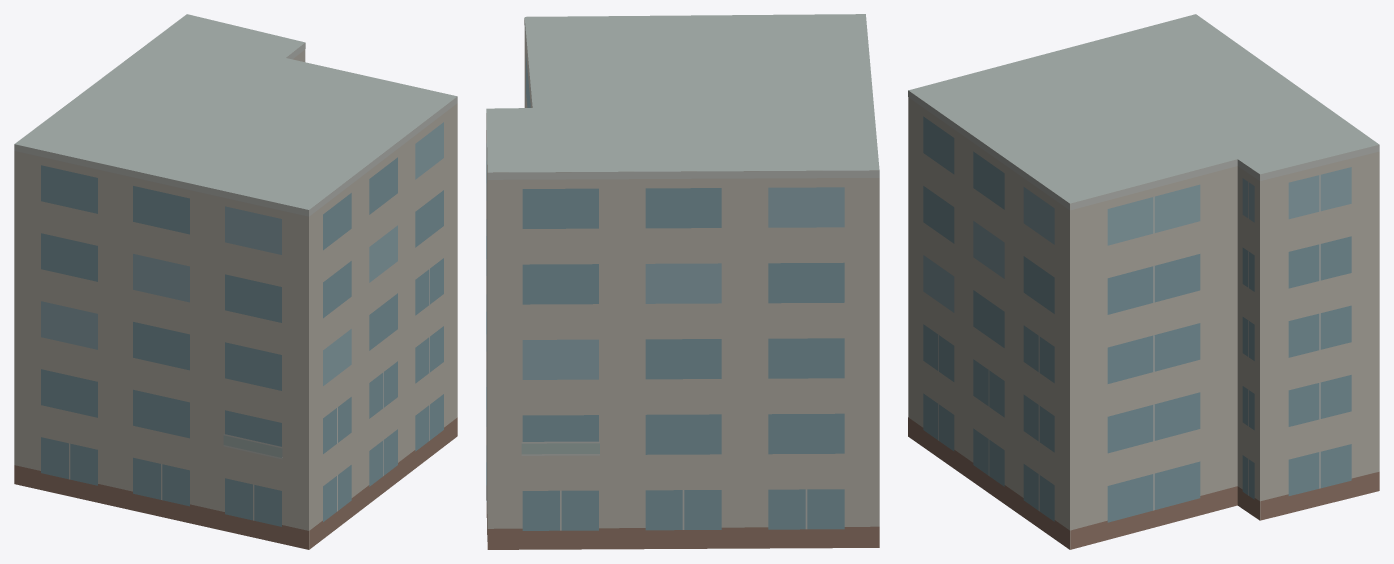
The model's file is survey-upis-32826904.glb.
3 renders of one model, left to right at view 1: azimuth 30°, elevation 25°; view 2: azimuth 150°, elevation 25°; view 3: azimuth 270°, elevation 25°, orthographic. The views are drawn at different scales.
Parts seen in each view (by area): view 1: survey-upis-32826904.tmp; view 2: survey-upis-32826904.tmp; view 3: survey-upis-32826904.tmp.
Part boxes in pixels (x1,y1,x2,y2): survey-upis-32826904.tmp: (14,14,457,549); survey-upis-32826904.tmp: (486,14,879,549); survey-upis-32826904.tmp: (908,14,1379,549).
Bounding box in the file's own units: 14.58 × 12.4 × 15.31.
